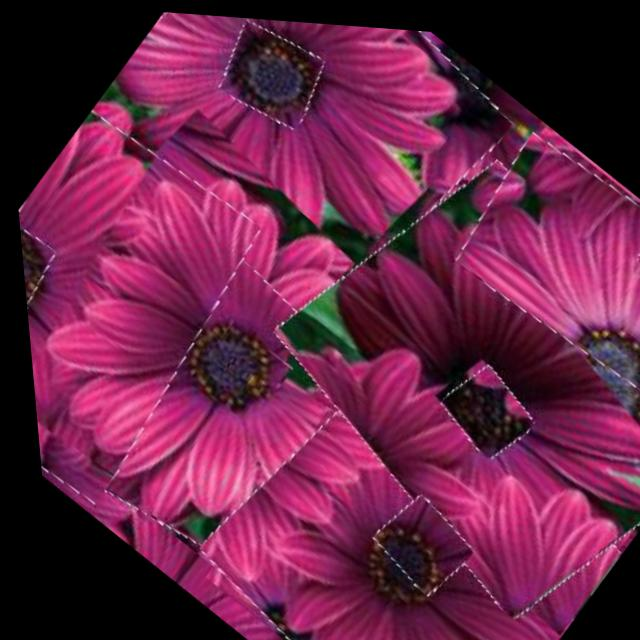Flower: (6, 88, 511, 640), (224, 114, 640, 636), (66, 4, 534, 348), (160, 307, 637, 640), (7, 95, 292, 519), (436, 107, 640, 436), (204, 12, 338, 137), (355, 481, 473, 598), (177, 314, 292, 429), (424, 349, 539, 463), (15, 218, 62, 332), (625, 203, 640, 296)
